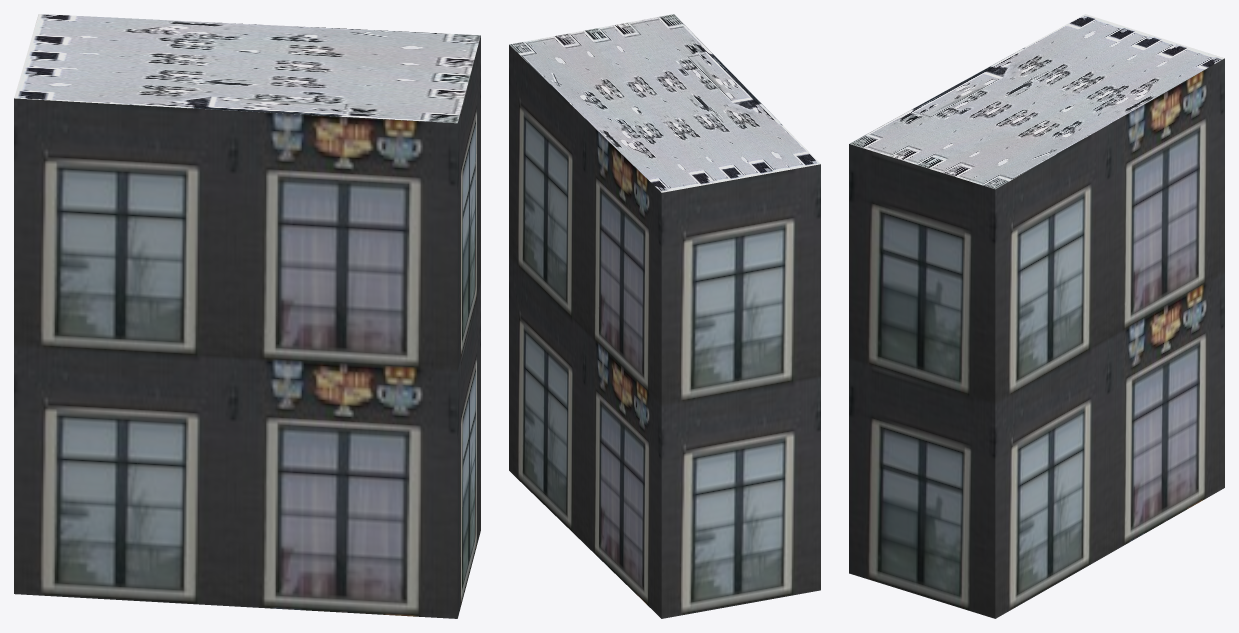
The model's file is ResTex__1980.fbx.
3 renders of one model, left to right at view 1: azimuth 30°, elevation 25°; view 2: azimuth 150°, elevation 25°; view 3: azimuth 270°, elevation 25°, orthographic. The views are drawn at different scales.
Visible parts, largest first — view 1: CityEngineMaterial_22_m, CityEngineMaterial_4_m; view 2: CityEngineMaterial_22_m, CityEngineMaterial_4_m; view 3: CityEngineMaterial_22_m, CityEngineMaterial_4_m.
Boxes of the visible parts, box(x1,y1,x2,y2) form: CityEngineMaterial_22_m: box(14, 35, 480, 618); CityEngineMaterial_4_m: box(14, 14, 480, 123); CityEngineMaterial_22_m: box(509, 45, 820, 618); CityEngineMaterial_4_m: box(509, 14, 820, 192); CityEngineMaterial_22_m: box(849, 58, 1224, 618); CityEngineMaterial_4_m: box(849, 14, 1224, 189).
Size of the model in its own units: 5.26 by 6 by 4.76.
Materials: 2 (2 with a texture image).
